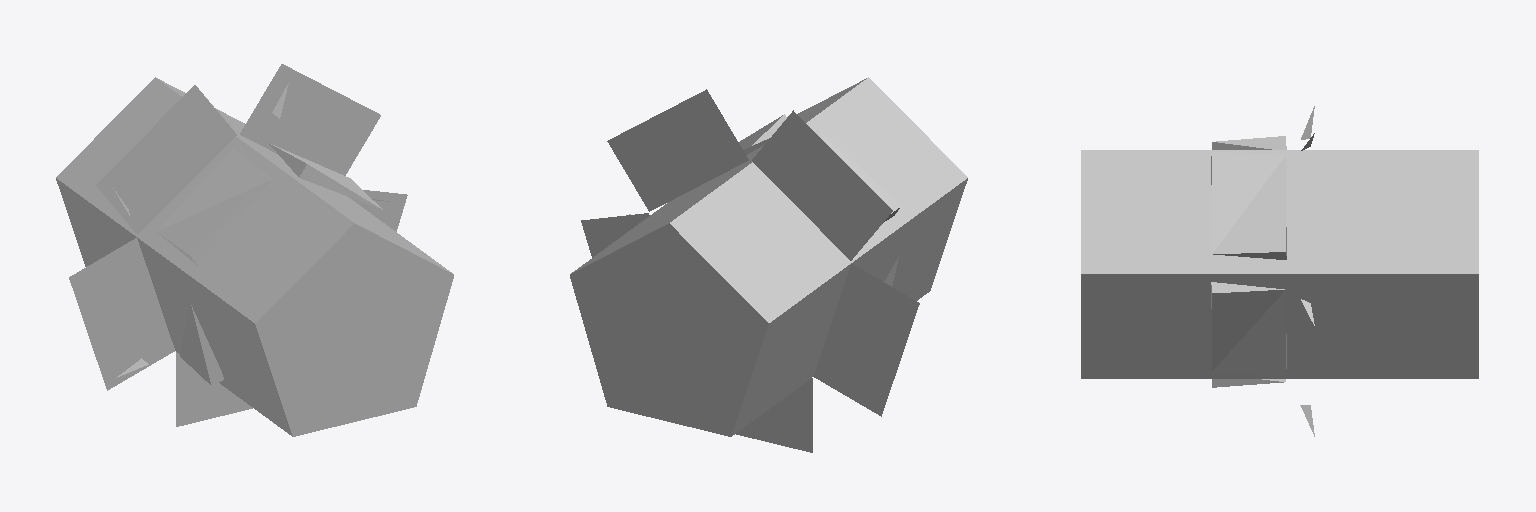
The model's file is interface.obj.
3 renders of one model, left to right at view 1: azimuth 30°, elevation 25°; view 2: azimuth 150°, elevation 25°; view 3: azimuth 270°, elevation 25°, orthographic.
Parts seen in each view (by area): view 1: Object.1; view 2: Object.1; view 3: Object.1.
Part boxes in pixels (x1,y1,x2,y2): Object.1: (56, 64, 453, 436); Object.1: (570, 77, 967, 452); Object.1: (1081, 106, 1478, 436).
Bounding box in the file's own units: 82.01 × 78.13 × 83.48.